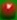red: (0, 0, 17, 20)
